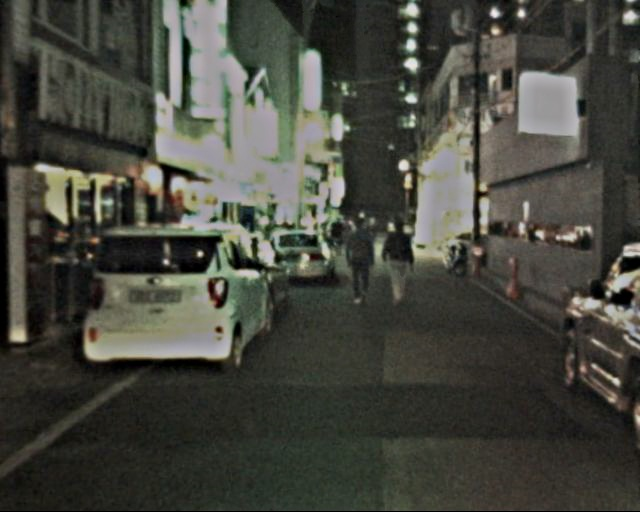person: (341, 218, 381, 308), (381, 220, 416, 304)
